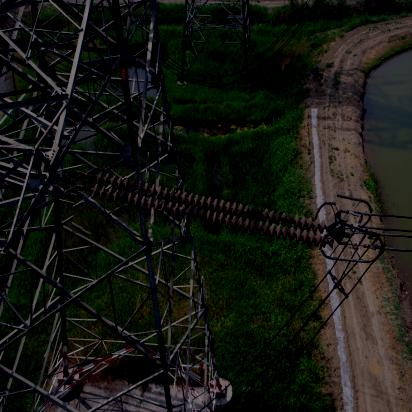insulator: (74, 173, 338, 248)
